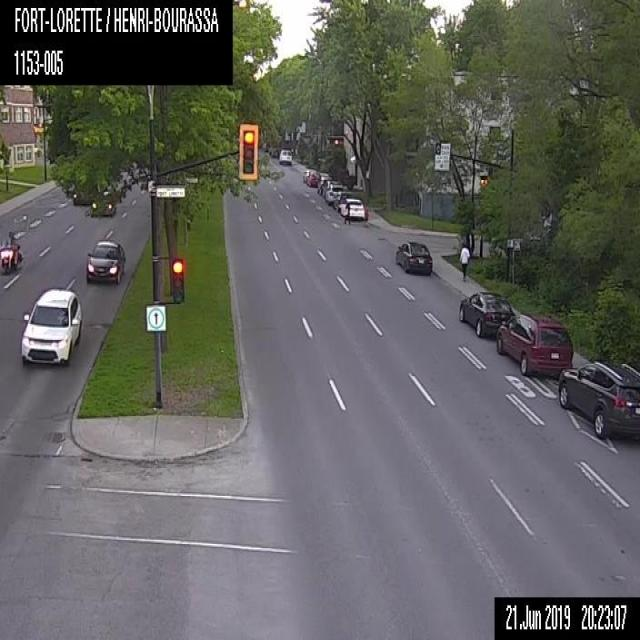pedestrian: (458, 241, 469, 280), (344, 202, 350, 226)
vehicle: (559, 363, 639, 437), (497, 312, 574, 380), (19, 286, 83, 366), (458, 286, 516, 337), (84, 236, 126, 284), (396, 240, 434, 273), (0, 228, 20, 272), (339, 196, 367, 220), (92, 202, 118, 218), (72, 186, 94, 204), (315, 171, 332, 194), (326, 184, 344, 204), (321, 180, 340, 197), (278, 147, 293, 166), (305, 168, 319, 186), (302, 167, 313, 180), (268, 145, 278, 156)
